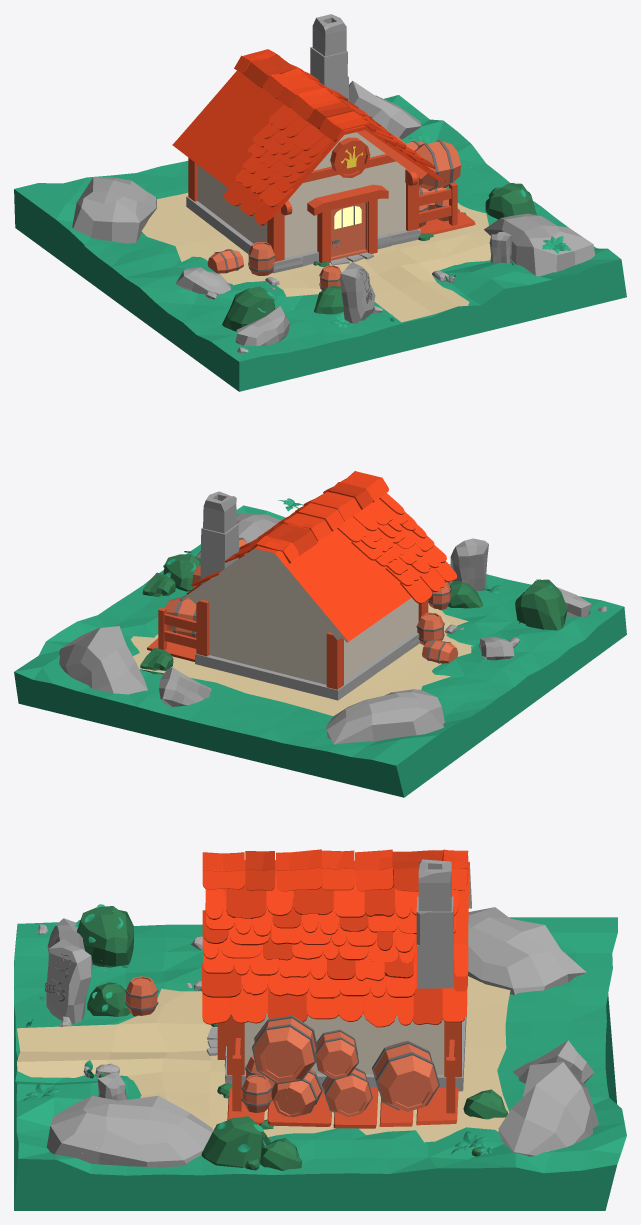
The model's file is CUTE_HOUSE.glb.
3 views of the same model, one above another, from view 1: azimuth 30°, elevation 25°; view 2: azimuth 150°, elevation 25°; view 3: azimuth 270°, elevation 25° (orthographic). The views are drawn at different scales.
Visible parts, largest first — view 1: Plane.087, House, Plane.088, Rock.002, Rock.006, House Base, Rock.004, Rock.007, Barrel.004, Rock.010, Plane, Rock.009 (+21 smaller); view 2: Plane.087, House, Plane.088, Rock.002, Rock.004, House Base, Rock.010, Rock.007, Rock.029, Chimney Top, Chimney Middle, House Corner.001 (+18 smaller); view 3: Plane.087, Plane.088, Rock.006, Rock.002, Rock.004, House, Barrel.007, Barrel.004, Rock.007, Rock.010, Rock.011, Plane.044 (+54 smaller).
Part boxes in pixels (x1,y1,x2,y2): Plane.087: [14, 95, 626, 391]; House: [172, 58, 440, 257]; Plane.088: [141, 193, 490, 322]; Rock.002: [72, 177, 156, 243]; Rock.006: [484, 213, 595, 276]; House Base: [186, 196, 420, 273]; Rock.004: [349, 81, 420, 139]; Rock.007: [340, 262, 375, 323]; Barrel.004: [414, 140, 460, 190]; Rock.010: [222, 286, 275, 331]; Plane: [331, 202, 367, 260]; Rock.009: [235, 306, 289, 346]; Plane.087: [14, 505, 626, 797]; House: [181, 493, 418, 684]; Plane.088: [130, 565, 472, 716]; Rock.002: [326, 689, 444, 744]; Rock.004: [59, 626, 147, 694]; House Base: [195, 631, 420, 700]; Rock.010: [515, 579, 567, 630]; Rock.007: [450, 538, 488, 590]; Rock.029: [159, 667, 211, 706]; Chimney Top: [203, 491, 236, 533]; Chimney Middle: [200, 524, 238, 560]; House Corner.001: [326, 632, 343, 689]; Plane.087: [14, 917, 626, 1210]; Plane.088: [17, 976, 510, 1142]; Rock.006: [46, 1095, 212, 1167]; Rock.002: [468, 907, 586, 995]; Rock.004: [498, 1062, 598, 1156]; House: [205, 860, 471, 1074]; Barrel.007: [372, 1041, 439, 1111]; Barrel.004: [252, 1015, 317, 1084]; Rock.007: [46, 938, 92, 1023]; Rock.010: [77, 906, 133, 967]; Rock.011: [201, 1116, 270, 1167]; Plane.044: [276, 849, 322, 891].
Size of what is drawn, in the model's own units: 8.17 by 4.1 by 8.32.
